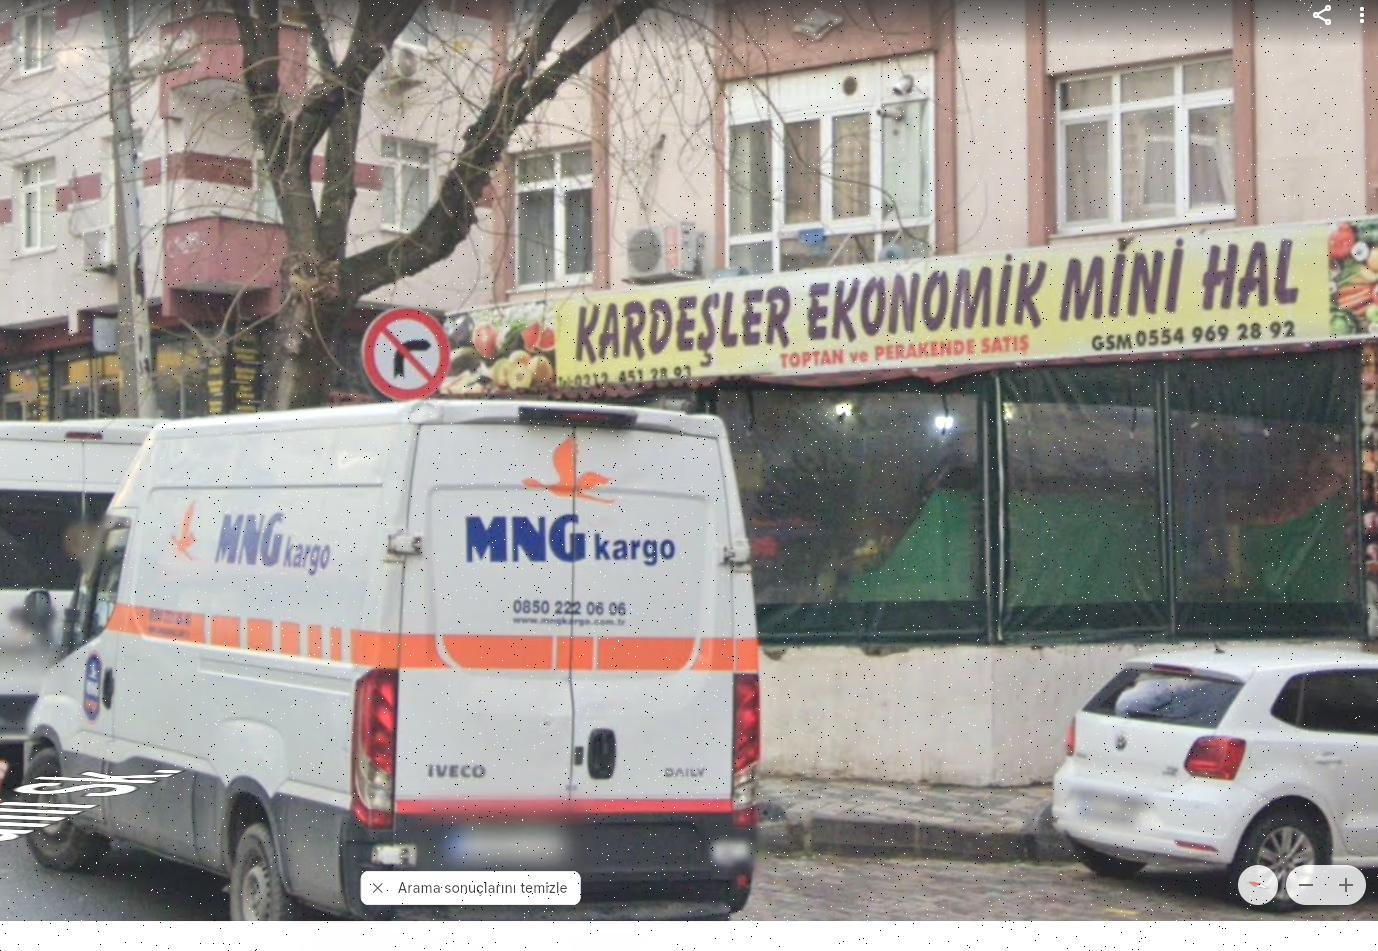rightturnsareforbidden: (368, 312, 443, 393)
